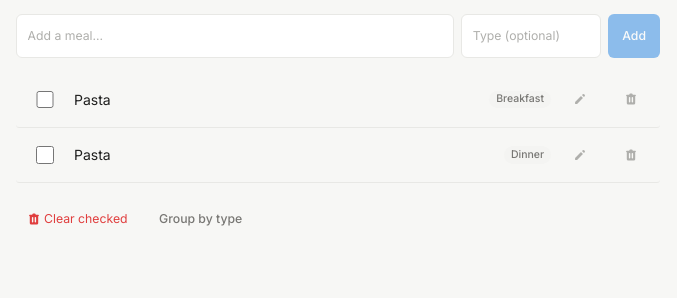
Test: MealPlanView › grouped view renders a section header for each group
The width and height of the screenshot is (677, 298).
Click the button with test id "group-by-type-toggle": {"x": 201, "y": 219} top-left (145, 197), bottom-right (256, 241)
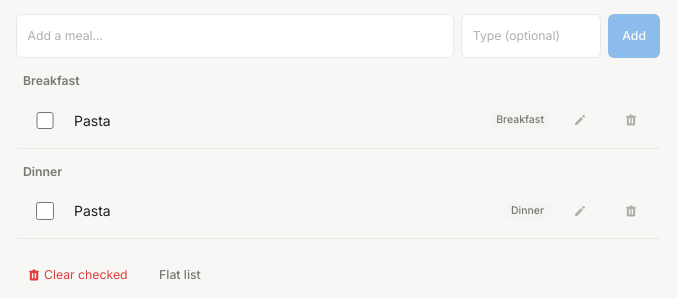
Now the number of headings with test id "meal-group-header" is 2, box top-left (23, 73), bottom-right (80, 88); top-left (23, 164), bottom-right (62, 178)
Now the heading with test id "meal-group-header" reads "Breakfast", box top-left (23, 73), bottom-right (80, 88)
Now the heading with test id "meal-group-header" reads "Dinner", box top-left (23, 164), bottom-right (62, 178)
